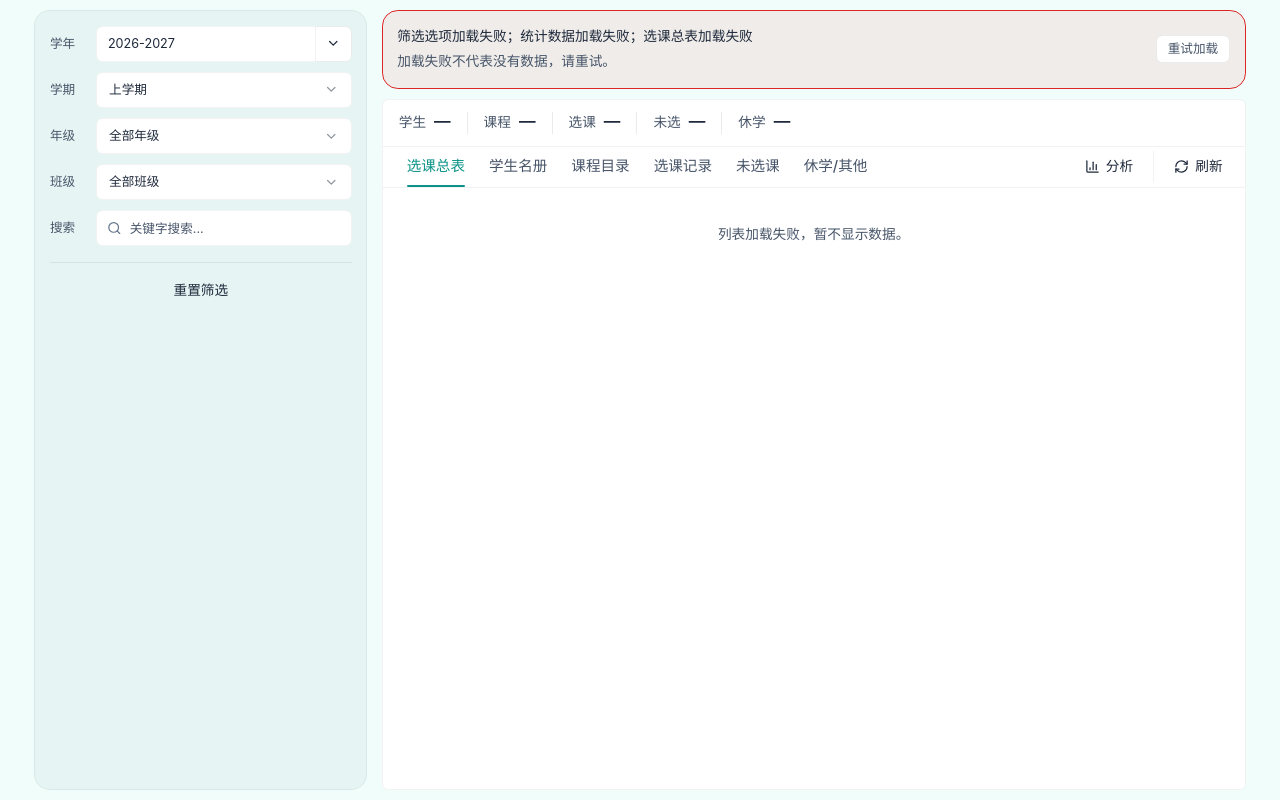
XBK page load failures › successful retry clears errors and permits true zero/empty data and pagination
Check: the message shows "选课总表加载失败", box [397,28,753,44]
Step 1. Click the button "重试加载" → [1193, 49], box [1156,35,1230,63]
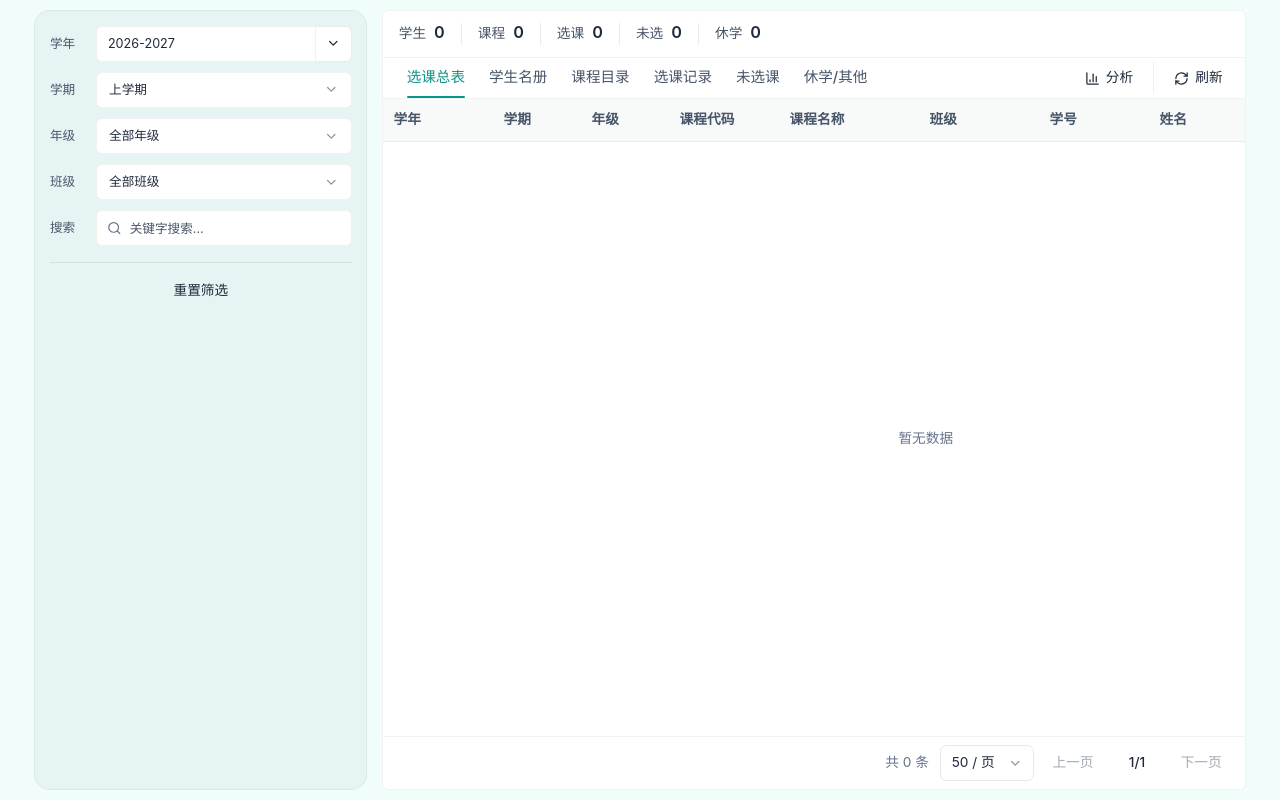
Check: the text "暂无数据" is shown, box [898,430,953,446]
Check: the message "筛选选项加载失败；统计数据加载失败；选课总表加载失败 加载失败不代表没有数据，请重试。 重试加载" is gone
Check: the element with class "xbk-table-pagination" is shown, box [383,736,1244,789]
